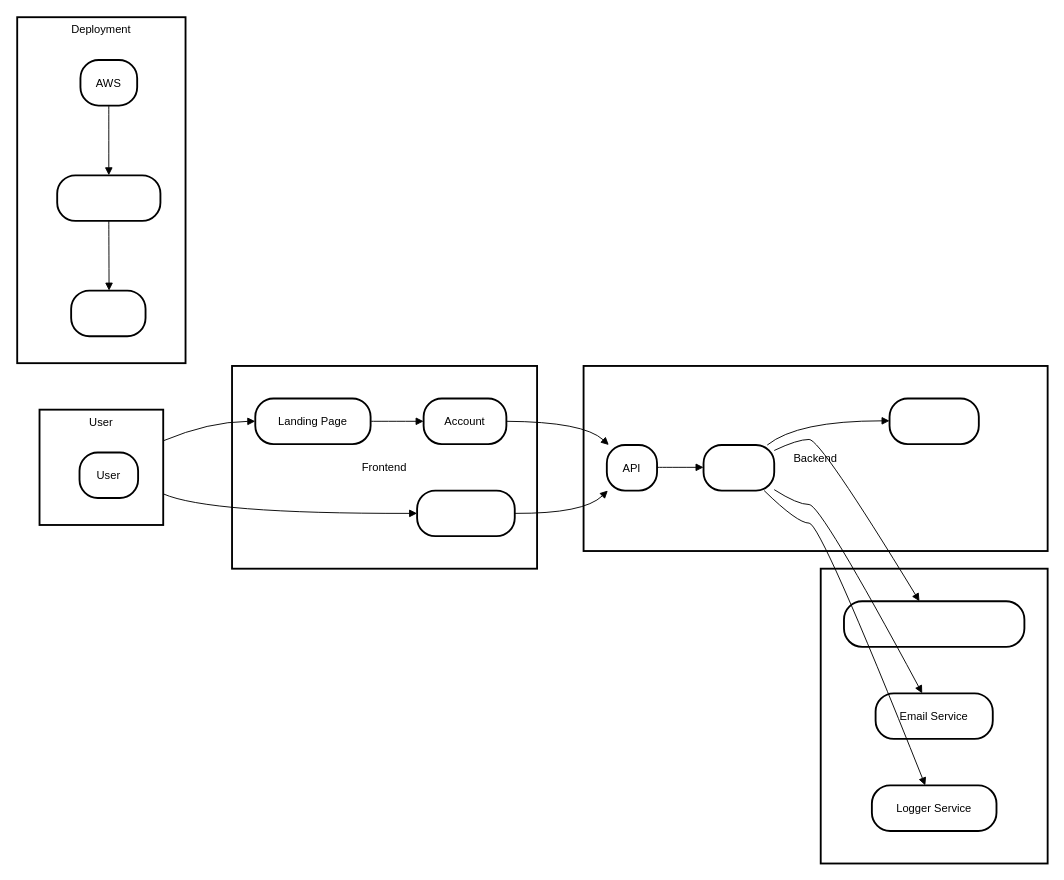
This 1064x880 diagram has some shape labels left out. The shapes that lost their labels are listed below. From the top down, each one's centre as x and y in pixels, then its label:
At point (108, 197): "Kubernetes".
At point (108, 313): "Docker".
At point (933, 421): "Database".
At point (738, 467): "Server".
At point (465, 513): "Dashboard".
At point (934, 623): "Authentication Service".
